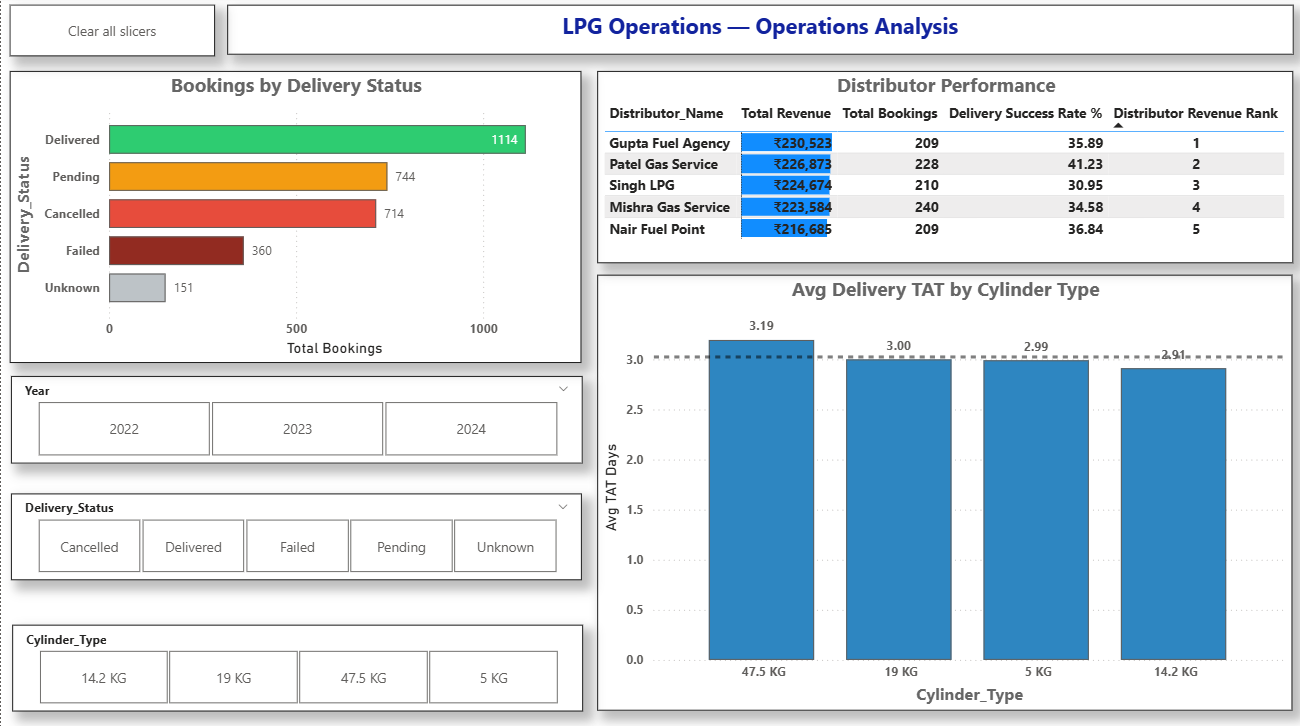

What the dashboard file says about the page in this screenshot:
{"tool":"powerbi","page":{"name":"Operations Analysis","canvas":[1280,720],"ordinal":1},"visuals":[{"type":"textbox","box":[221.3,8.6,1043.1,48.9],"z":0},{"type":"clusteredBarChart","title":"Bookings by Delivery Status","fields":{"Category":["LPG_Operations.Delivery_Status"],"Y":["_Measures.Total Bookings"]},"box":[8.5,74,558.9,285.9],"z":1000},{"type":"tableEx","title":"Distributor Performance","fields":{"Values":["LPG_Operations.Distributor_Name","_Measures.Total Revenue","_Measures.Total Bookings","_Measures.Delivery Success Rate %","_Measures.Distributor Revenue Rank"]},"box":[583.3,73.4,681.1,188.3],"z":2000},{"type":"clusteredColumnChart","title":"Avg Delivery TAT by Cylinder Type","fields":{"Category":["LPG_Operations.Cylinder_Type"],"Y":["_Measures.Avg TAT Days"]},"box":[583.3,272.7,679.9,426.8],"z":2001},{"type":"slicer","fields":{"Values":["Date_Table.Year"]},"box":[9.8,371.7,558.8,85.6],"z":2002,"group":"g1"},{"type":"slicer","fields":{"Values":["LPG_Operations.Delivery_Status"]},"box":[9.9,486.2,558.3,85.1],"z":2003,"group":"g1"},{"type":"slicer","fields":{"Values":["LPG_Operations.Cylinder_Type"]},"box":[11.3,614.6,558.3,85.1],"z":2004,"group":"g1"},{"type":"actionButton","box":[8.6,8.6,200.5,50.1],"z":2005},{"type":"group","id":"g1","title":"Group 1","box":[9.8,371.7,560.1,327.7],"z":2006}]}

Visuals, with their boxes in screenshot pixels (x1, y1, x2, y2), scaled from the page's 1280x720 canvas onto the 1300x726 screenshot:
textbox: {"x1": 225, "y1": 9, "x2": 1284, "y2": 58}
"Bookings by Delivery Status" clusteredBarChart: {"x1": 9, "y1": 75, "x2": 576, "y2": 363}
"Distributor Performance" tableEx: {"x1": 592, "y1": 74, "x2": 1284, "y2": 264}
"Avg Delivery TAT by Cylinder Type" clusteredColumnChart: {"x1": 592, "y1": 275, "x2": 1283, "y2": 705}
slicer - Date_Table.Year: {"x1": 10, "y1": 375, "x2": 577, "y2": 461}
slicer - LPG_Operations.Delivery_Status: {"x1": 10, "y1": 490, "x2": 577, "y2": 576}
slicer - LPG_Operations.Cylinder_Type: {"x1": 11, "y1": 620, "x2": 578, "y2": 706}
actionButton: {"x1": 9, "y1": 9, "x2": 212, "y2": 59}
"Group 1" group: {"x1": 10, "y1": 375, "x2": 579, "y2": 705}
